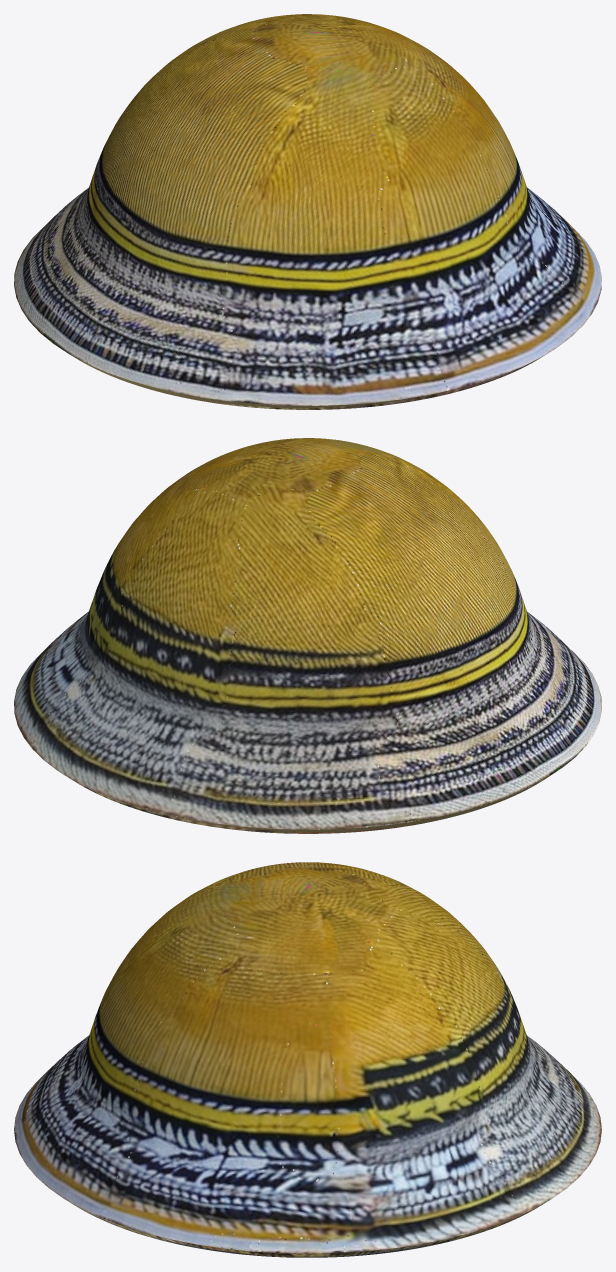
3 views of the same model, one above another, from view 1: azimuth 30°, elevation 25°; view 2: azimuth 150°, elevation 25°; view 3: azimuth 270°, elevation 25° (orthographic).
Visible parts, largest first — view 1: mesh; view 2: mesh; view 3: mesh.
Part boxes in pixels (x1,y1,x2,y2): mesh: (14,14,601,409); mesh: (14,438,601,833); mesh: (14,862,601,1257).
Bounding box in the file's own units: 1.12 × 0.5415 × 1.12.
1 material, 1 textured.
